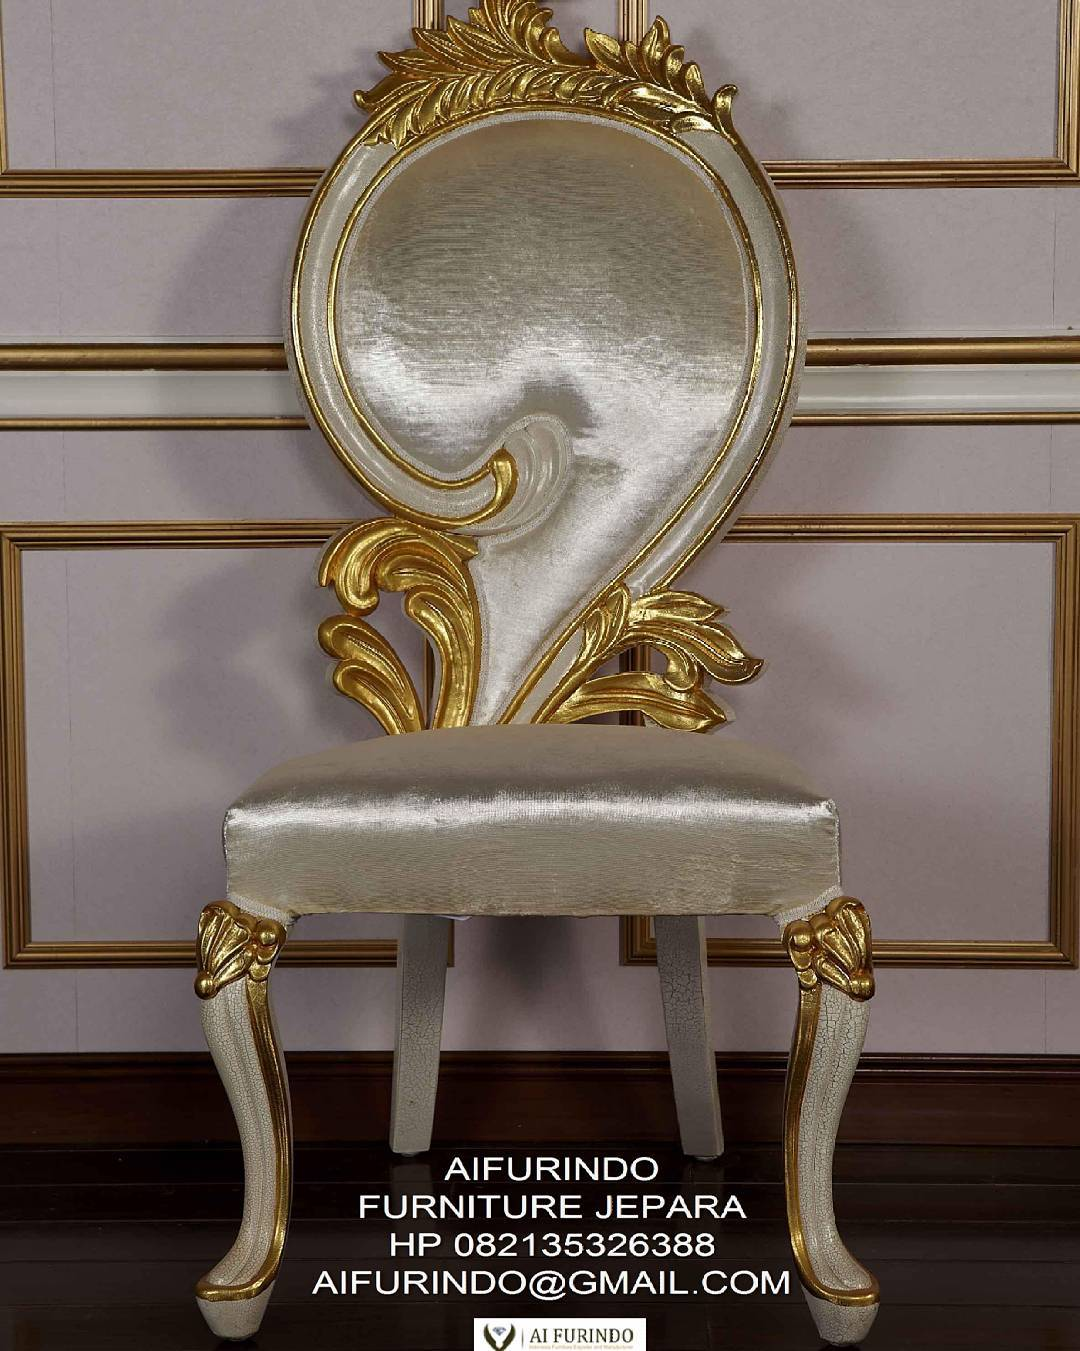Carving Chair: (192, 50, 884, 1351)
